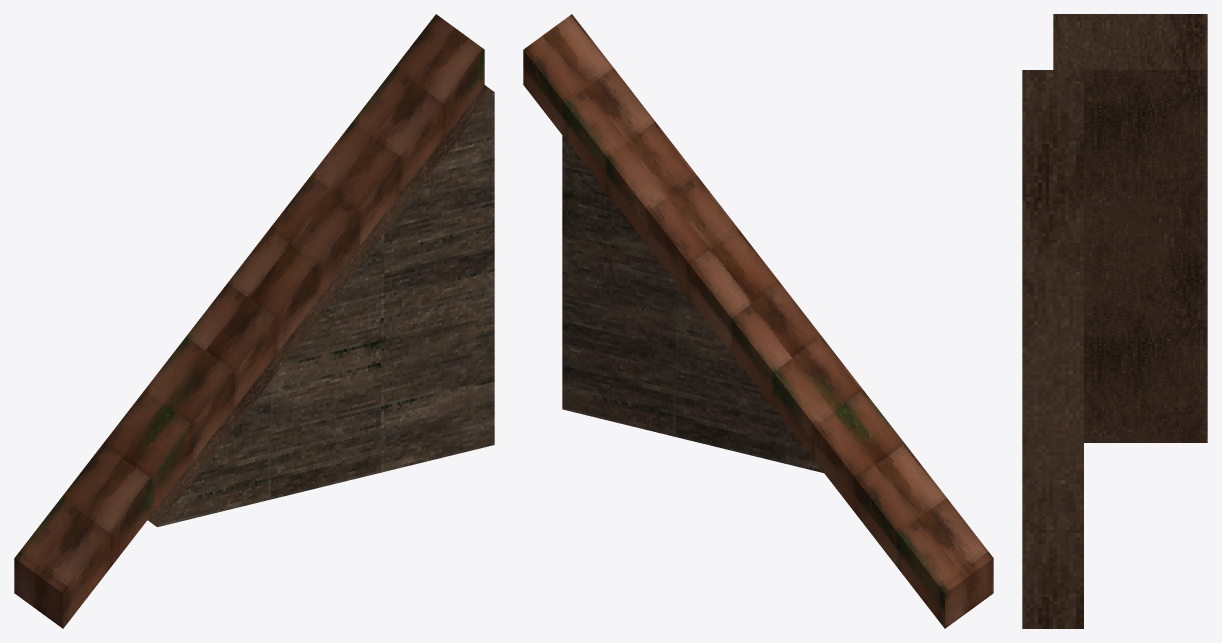
The model's file is roof_01_L.glb.
3 renders of one model, left to right at view 1: azimuth 30°, elevation 25°; view 2: azimuth 150°, elevation 25°; view 3: azimuth 270°, elevation 25°, orthographic. The views are drawn at different scales.
Visible parts, largest first — view 1: roof_01_L2; view 2: roof_01_L2; view 3: roof_01_L2.
Part boxes in pixels (left/top/right/bottom): roof_01_L2: left=14, top=14, right=494, bottom=628; roof_01_L2: left=523, top=14, right=993, bottom=628; roof_01_L2: left=1022, top=14, right=1207, bottom=628.
Bounding box in the file's own units: 2.5 × 2.7 × 0.6.
1 material, 1 textured.
